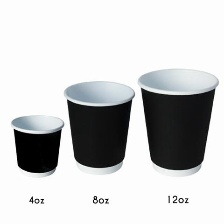paper_cup: (133, 62, 221, 180), (60, 76, 137, 178), (7, 110, 66, 182)
